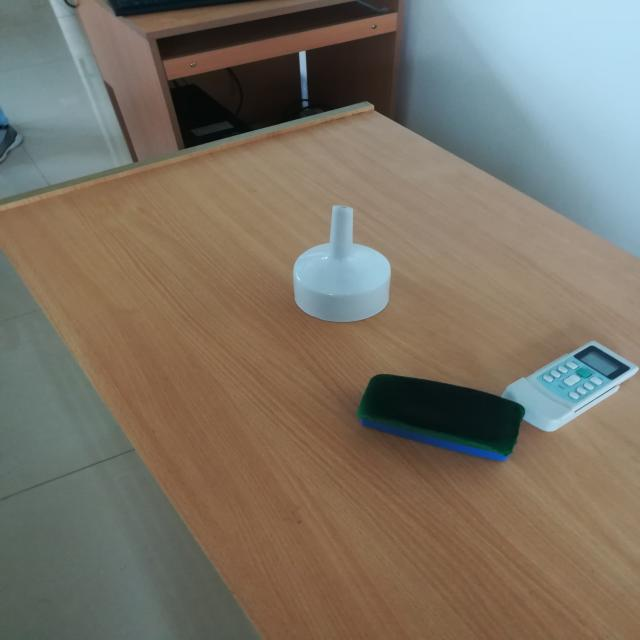Buchner_Funnel: (274, 175, 421, 336)
